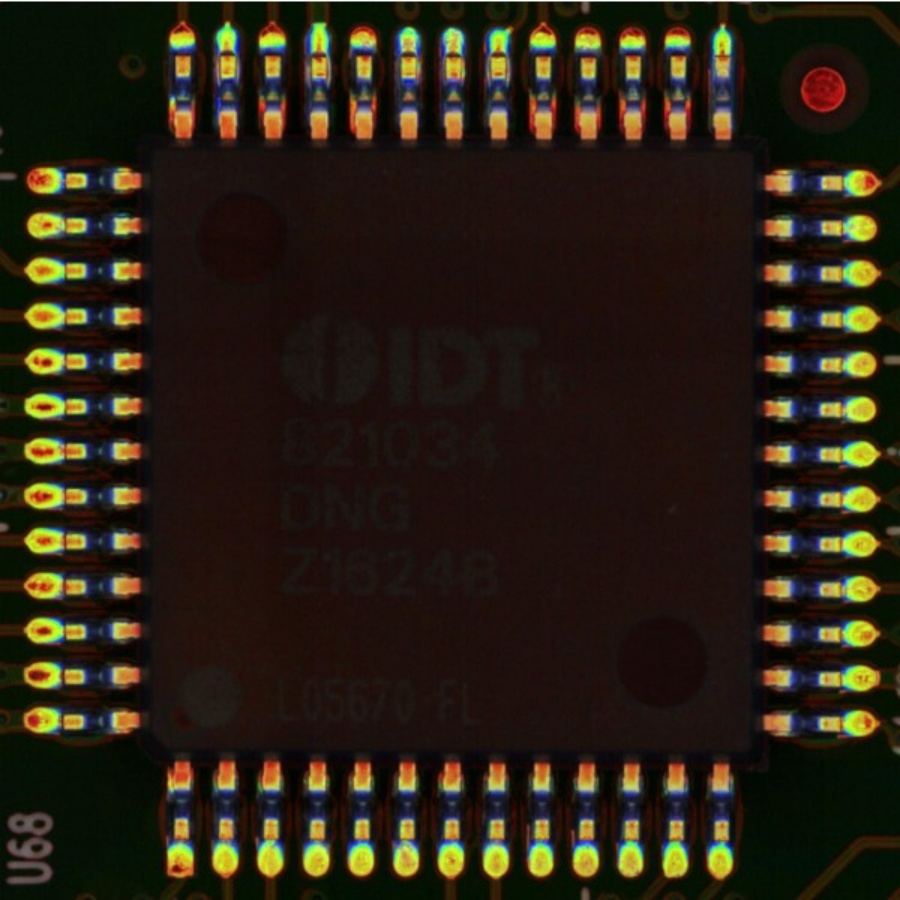Bad_podu: (221, 40, 234, 65), (312, 42, 325, 67), (402, 40, 415, 65), (492, 41, 504, 68), (716, 42, 730, 65), (449, 40, 461, 66)
